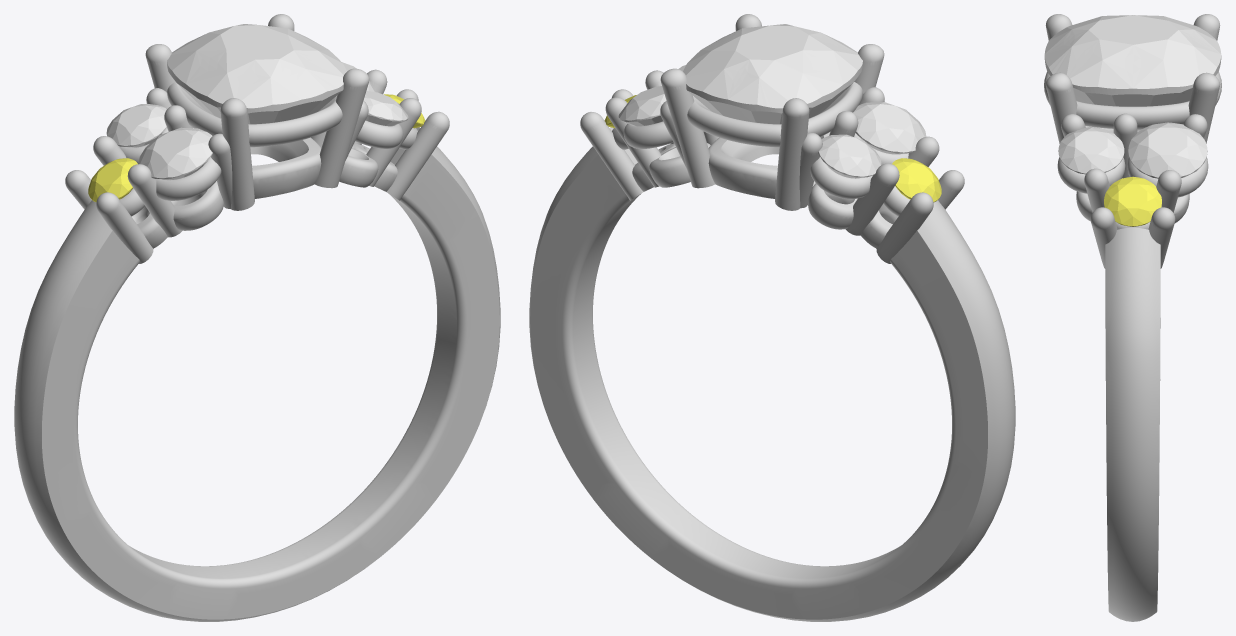
Rendered from Marc_&_Sarah_v3_blender.glb.
The picture shows the model from 3 angles, left to right: view 1: azimuth 30°, elevation 25°; view 2: azimuth 150°, elevation 25°; view 3: azimuth 270°, elevation 25°; orthographic projection.
Parts seen in each view (by area): view 1: v3 PT for 3d model, v4 center dia for 3d model, v3 cluster dia for 3d model.002, v3 cluster dia for 3d model.003, v3 yellow sapphire for 3d model.001, v3 cluster dia for 3d model.001; view 2: v3 PT for 3d model, v4 center dia for 3d model, v3 cluster dia for 3d model.002, v3 cluster dia for 3d model.003, v3 yellow sapphire for 3d model.001, v3 cluster dia for 3d model; view 3: v3 PT for 3d model, v4 center dia for 3d model, v3 cluster dia for 3d model, v3 cluster dia for 3d model.001, v3 yellow sapphire for 3d model.
Part boxes in pixels (bbox=[...]): v3 PT for 3d model: bbox=[14, 14, 500, 621]; v4 center dia for 3d model: bbox=[167, 24, 346, 124]; v3 cluster dia for 3d model.002: bbox=[139, 127, 212, 180]; v3 cluster dia for 3d model.003: bbox=[106, 104, 166, 147]; v3 yellow sapphire for 3d model.001: bbox=[88, 158, 137, 202]; v3 cluster dia for 3d model.001: bbox=[363, 91, 408, 126]; v3 PT for 3d model: bbox=[529, 14, 1015, 621]; v4 center dia for 3d model: bbox=[683, 24, 862, 124]; v3 cluster dia for 3d model.002: bbox=[853, 102, 926, 154]; v3 cluster dia for 3d model.003: bbox=[818, 134, 881, 178]; v3 yellow sapphire for 3d model.001: bbox=[892, 158, 941, 202]; v3 cluster dia for 3d model: bbox=[618, 86, 666, 126]; v3 PT for 3d model: bbox=[1044, 14, 1221, 621]; v4 center dia for 3d model: bbox=[1044, 15, 1221, 130]; v3 cluster dia for 3d model: bbox=[1128, 122, 1207, 178]; v3 cluster dia for 3d model.001: bbox=[1058, 127, 1124, 174]; v3 yellow sapphire for 3d model: bbox=[1104, 176, 1161, 226].
Bounding box in the file's own units: 20.69 × 23.66 × 6.75.
